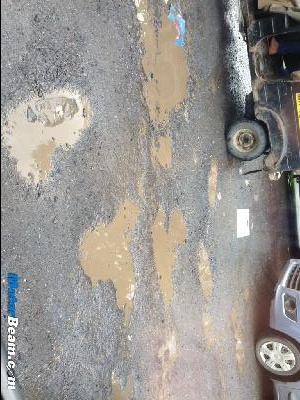pothole: (1, 76, 100, 189), (130, 0, 197, 130), (73, 192, 146, 311), (150, 201, 190, 310), (195, 243, 217, 301), (150, 131, 178, 173), (105, 366, 138, 399), (204, 158, 221, 210)
